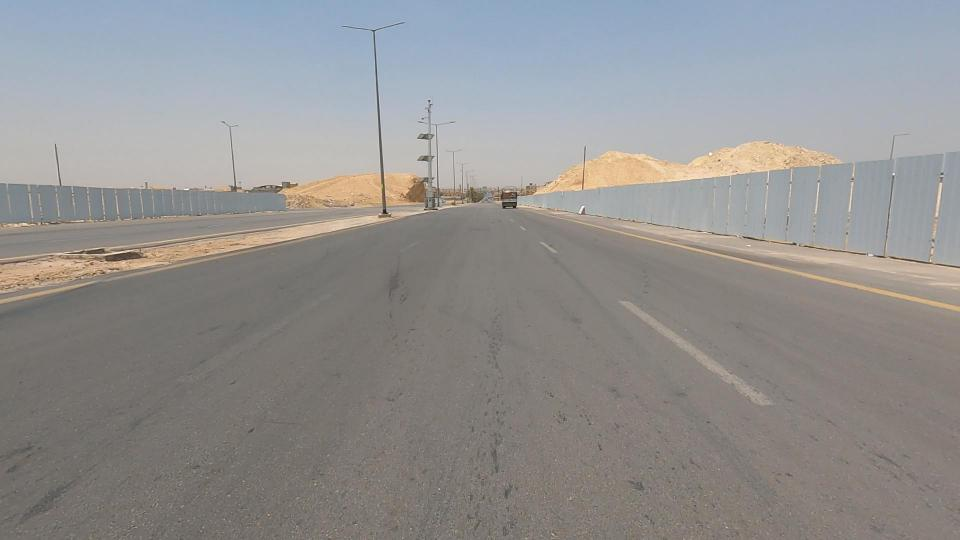CLUTTER_SIDEWALK: (0, 216, 262, 310), (137, 194, 379, 261)
GARBAGE: (557, 189, 601, 232)
